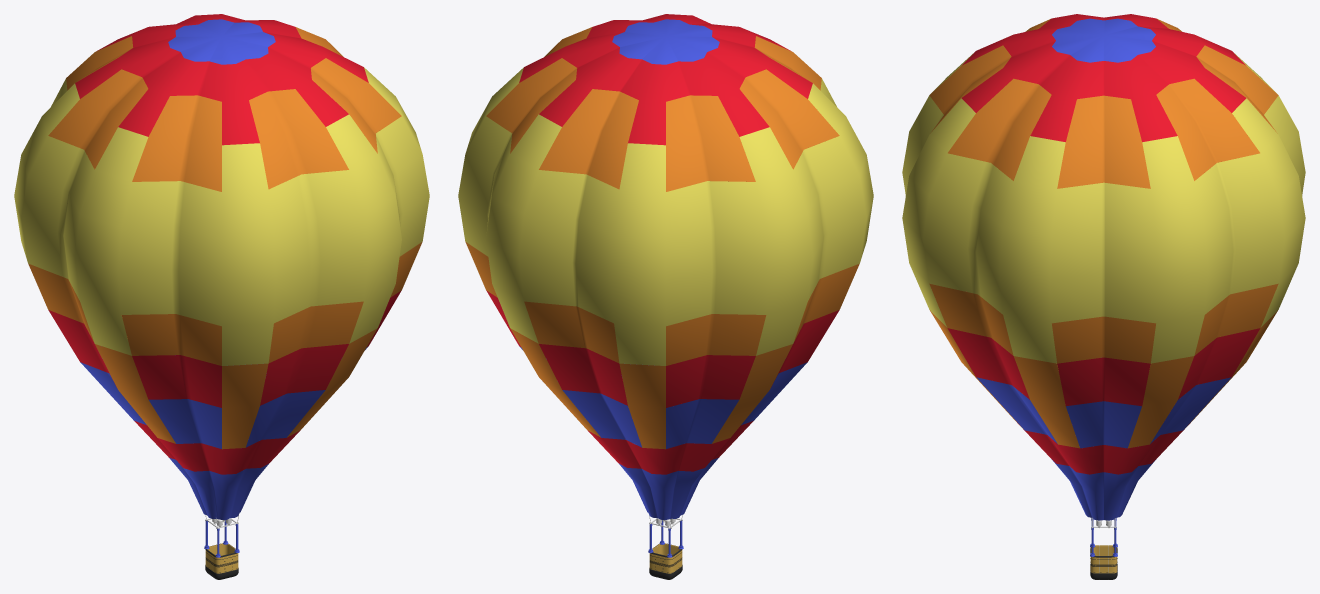
File: 无标题.glb
The picture shows the model from 3 angles, left to right: view 1: azimuth 30°, elevation 25°; view 2: azimuth 150°, elevation 25°; view 3: azimuth 270°, elevation 25°; orthographic projection.
Parts seen in each view (by area): view 1: 热气球; view 2: 热气球; view 3: 热气球.
Boxes of the visible parts, x1=… form: 热气球: x1=14, y1=14, x2=429, y2=579; 热气球: x1=458, y1=14, x2=873, y2=579; 热气球: x1=902, y1=14, x2=1305, y2=579.
Size of the model in its own units: 45.29 by 66.99 by 45.29.
